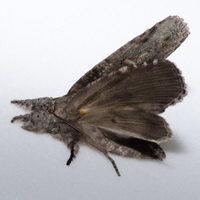insect: (11, 16, 189, 175)
